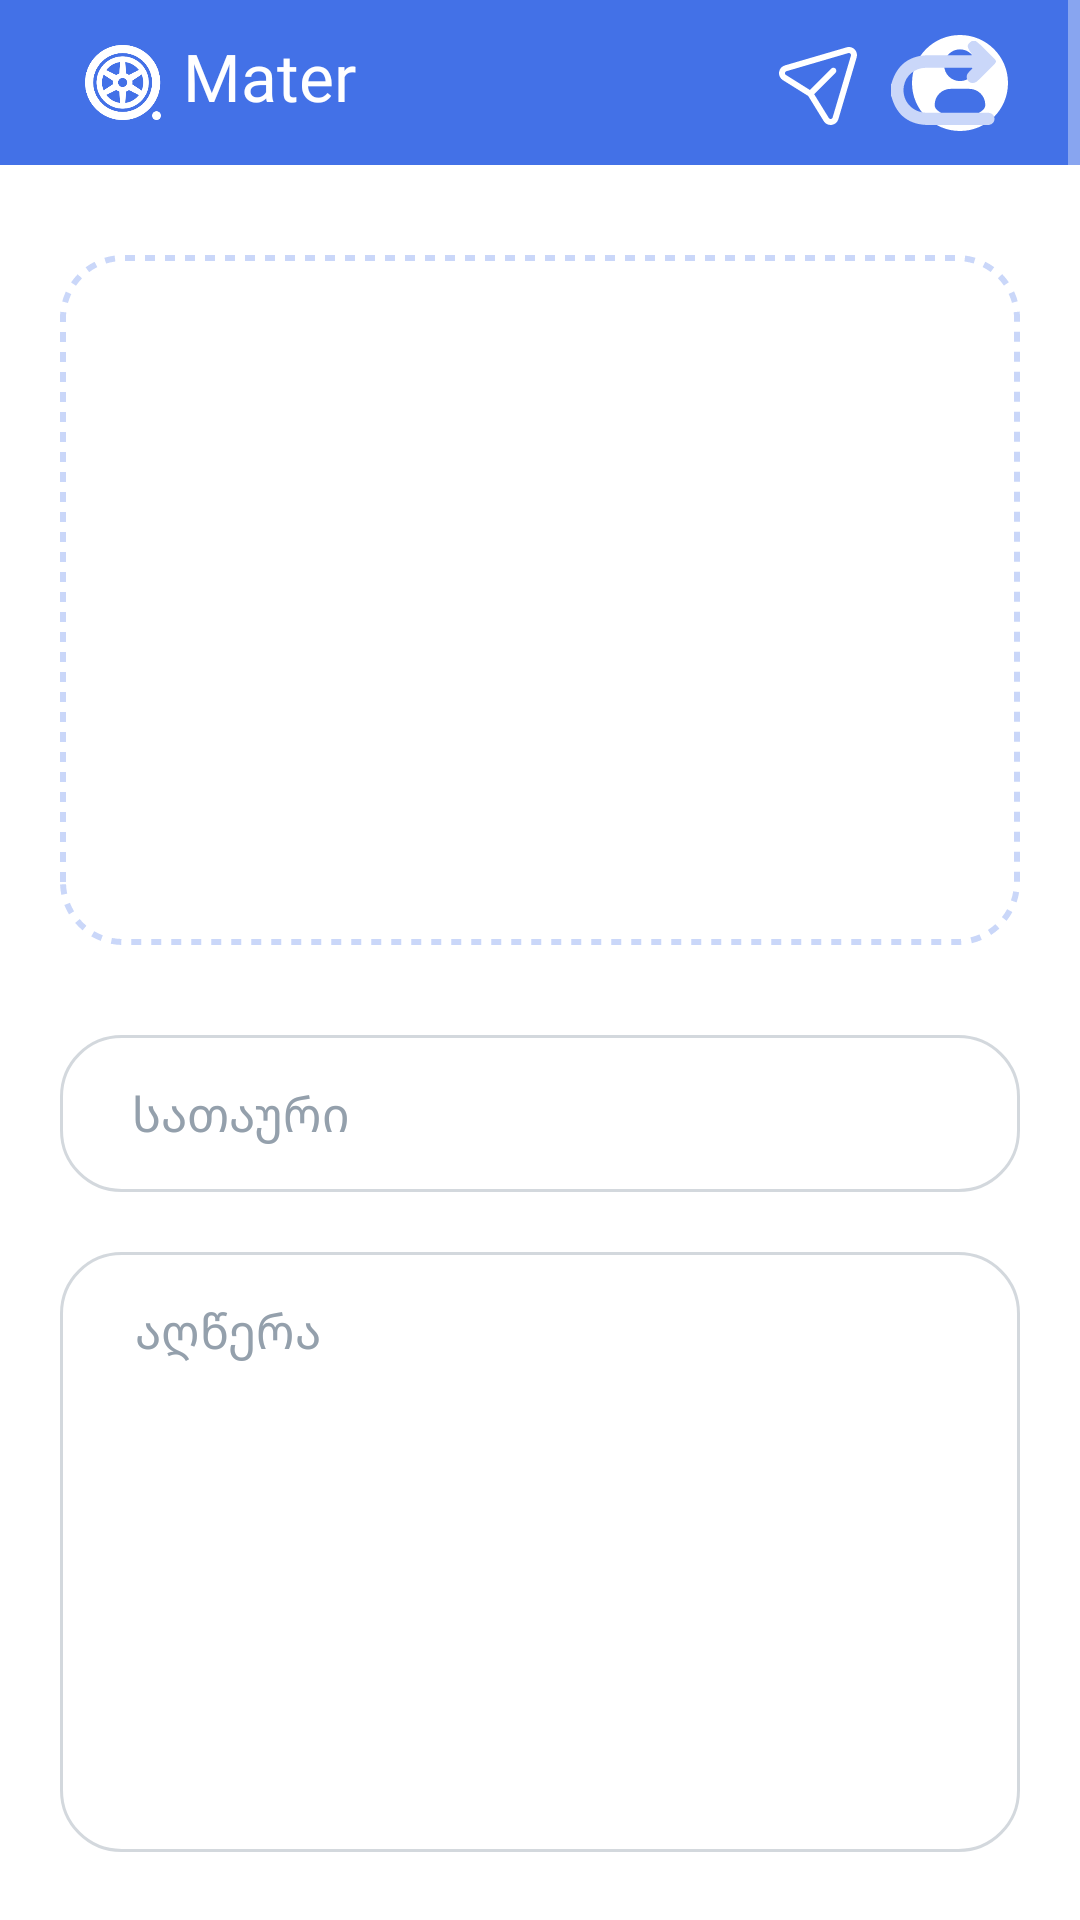

Where to tap for icons on this 1080px x 1920px app screen, as (x,y):
send: (818,86)
wheel: (123,82)
